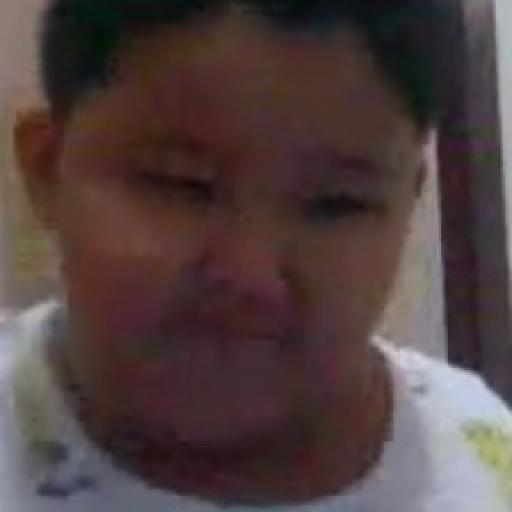Autism: (6, 0, 494, 512)
